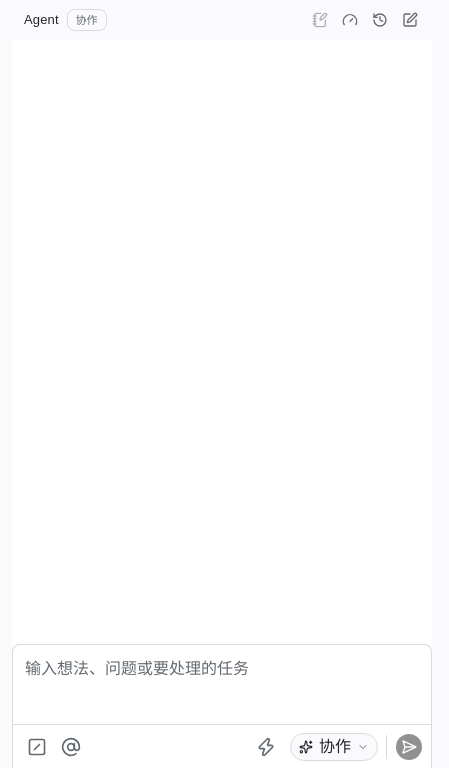
it: BookAgentPanel › 点击历史按钮后在触发位置弹出会话菜单
This screenshot has width=449, height=768.
Press the mouse on the button named "打开历史记录" at (380, 20), box [366, 6, 394, 34]
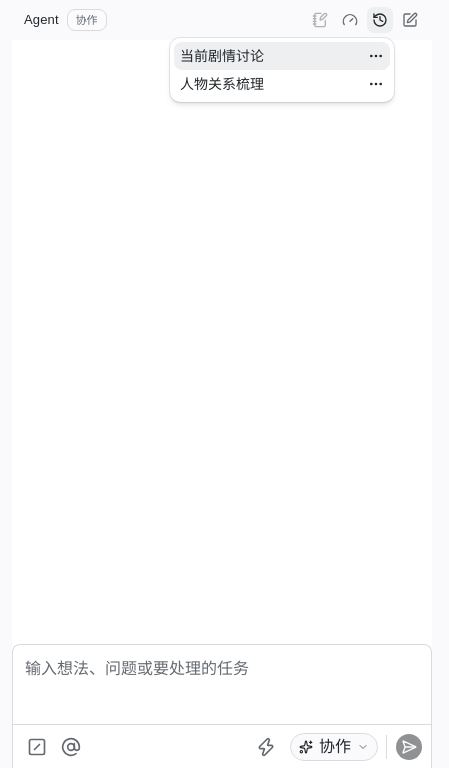
expect the menu is shown: met, box [170, 38, 394, 102]
expect the menu item "当前剧情讨论" is shown: met, box [180, 48, 264, 64]
expect the menu item "人物关系梳理" is shown: met, box [180, 76, 264, 92]
